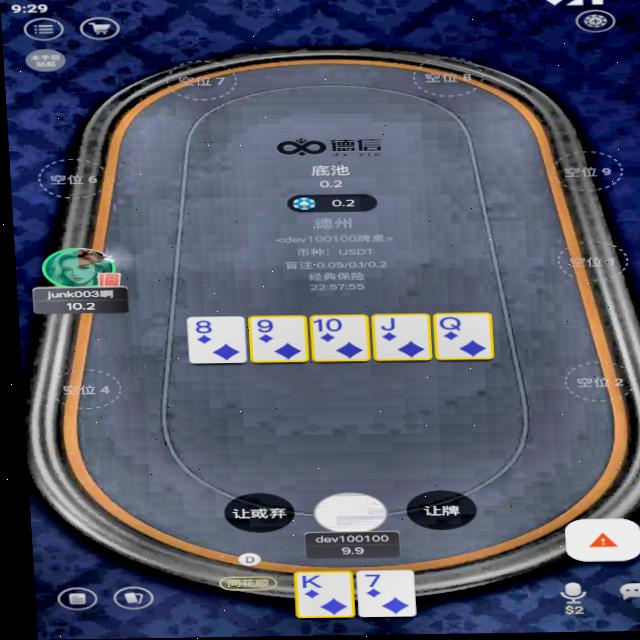10f: (306, 318, 340, 335)
7f: (353, 573, 376, 590)
8f: (189, 319, 212, 336)
9f: (251, 320, 272, 336)
Jf: (373, 317, 396, 333)
Kf: (291, 574, 318, 591)
Qf: (431, 317, 464, 333)
